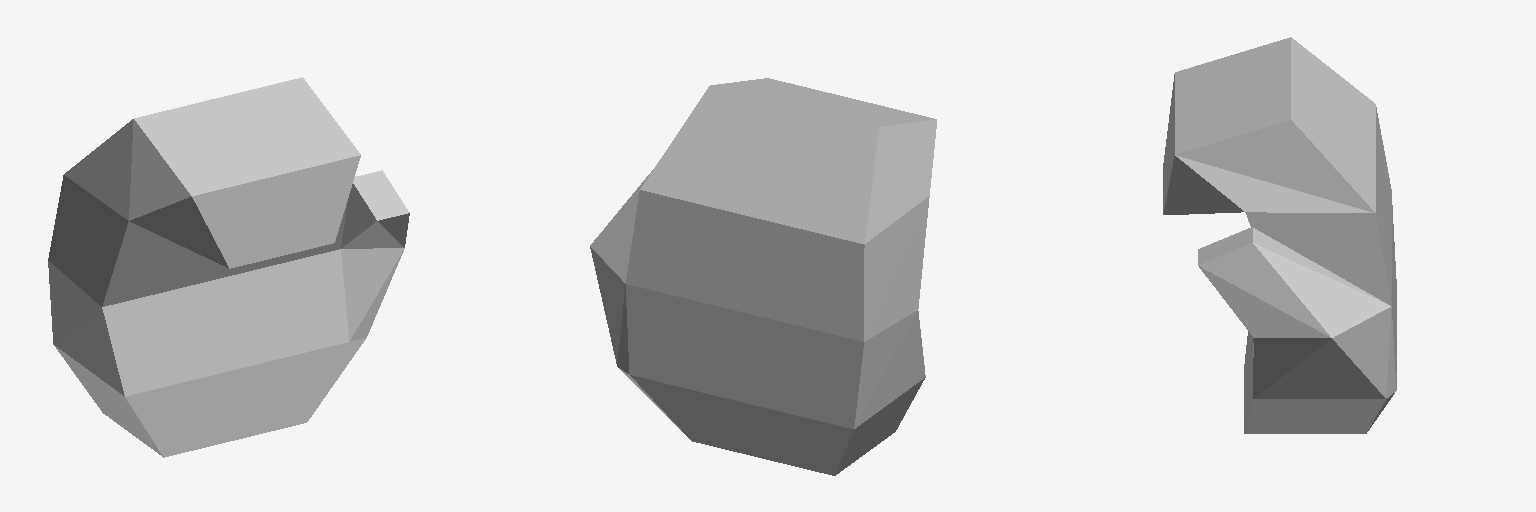
The model's file is glove.obj.
The picture shows the model from 3 angles: view 1: azimuth 30°, elevation 25°; view 2: azimuth 150°, elevation 25°; view 3: azimuth 270°, elevation 25°; orthographic projection.
Visible parts, largest first — view 1: robo_Untitled.015; view 2: robo_Untitled.015; view 3: robo_Untitled.015.
Boxes of the visible parts, <box> form: robo_Untitled.015: <box>48,77,409,457</box>; robo_Untitled.015: <box>590,78,936,475</box>; robo_Untitled.015: <box>1163,37,1396,433</box>.
Size of the model in its own units: 0.4472 by 0.4547 by 0.2969.